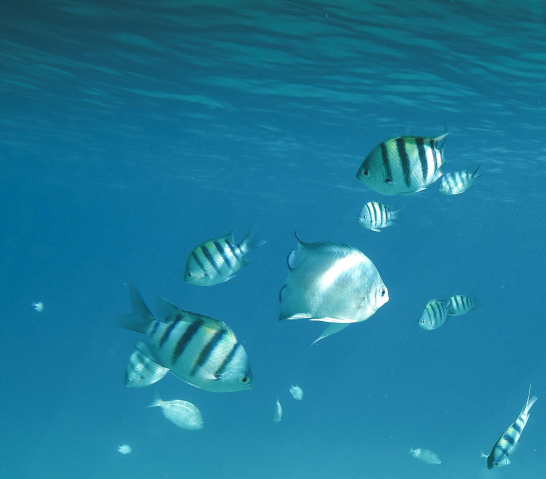fishLarge: (407, 444, 443, 466)
fishRound: (114, 281, 254, 395), (276, 232, 391, 346), (357, 130, 450, 199), (182, 224, 265, 287), (480, 382, 538, 471), (147, 391, 205, 431), (356, 199, 406, 234), (438, 165, 486, 196), (419, 295, 451, 332), (443, 294, 482, 317), (289, 383, 304, 402)
